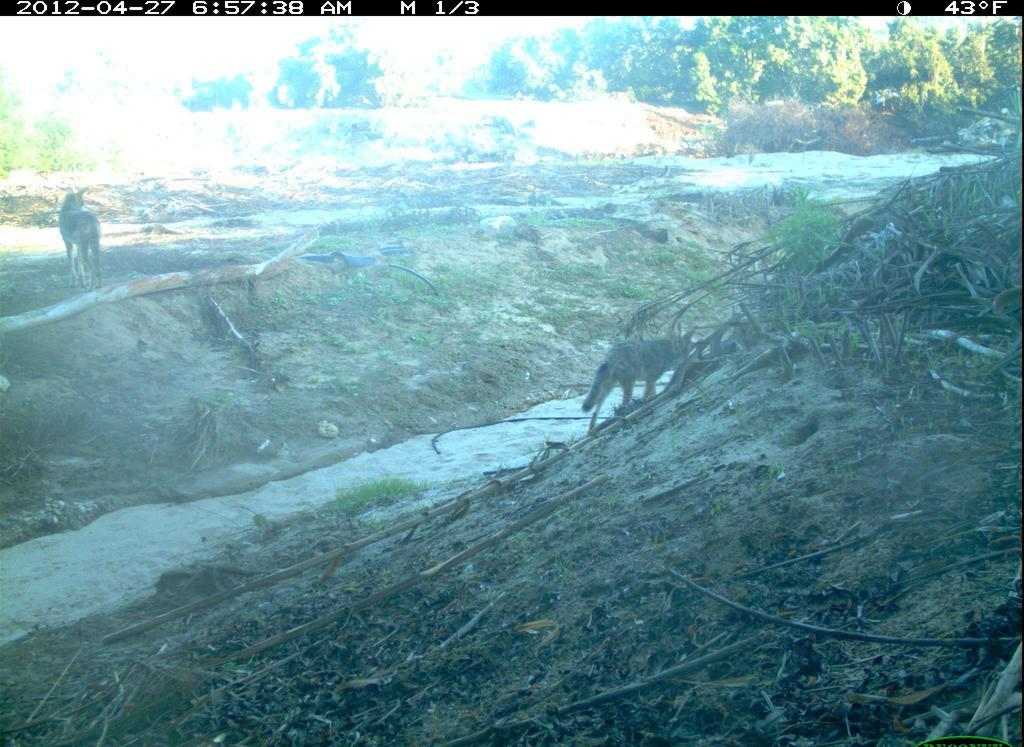coyote: (575, 326, 702, 436), (38, 184, 121, 296)
